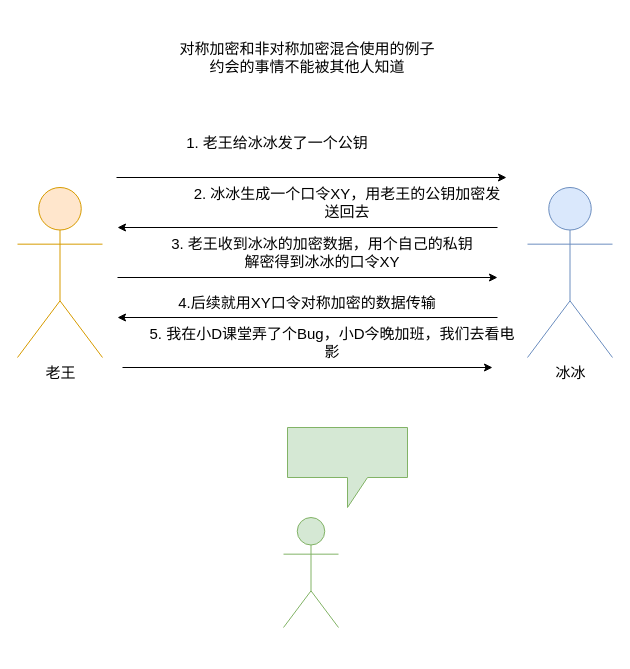
This 630x669 diagram has some shape labels left out. The centre of each missing label's shape, as x and y in pixels:
"他俩在摸鱼？" goes at point (347, 467).
"小D" goes at point (310, 572).
